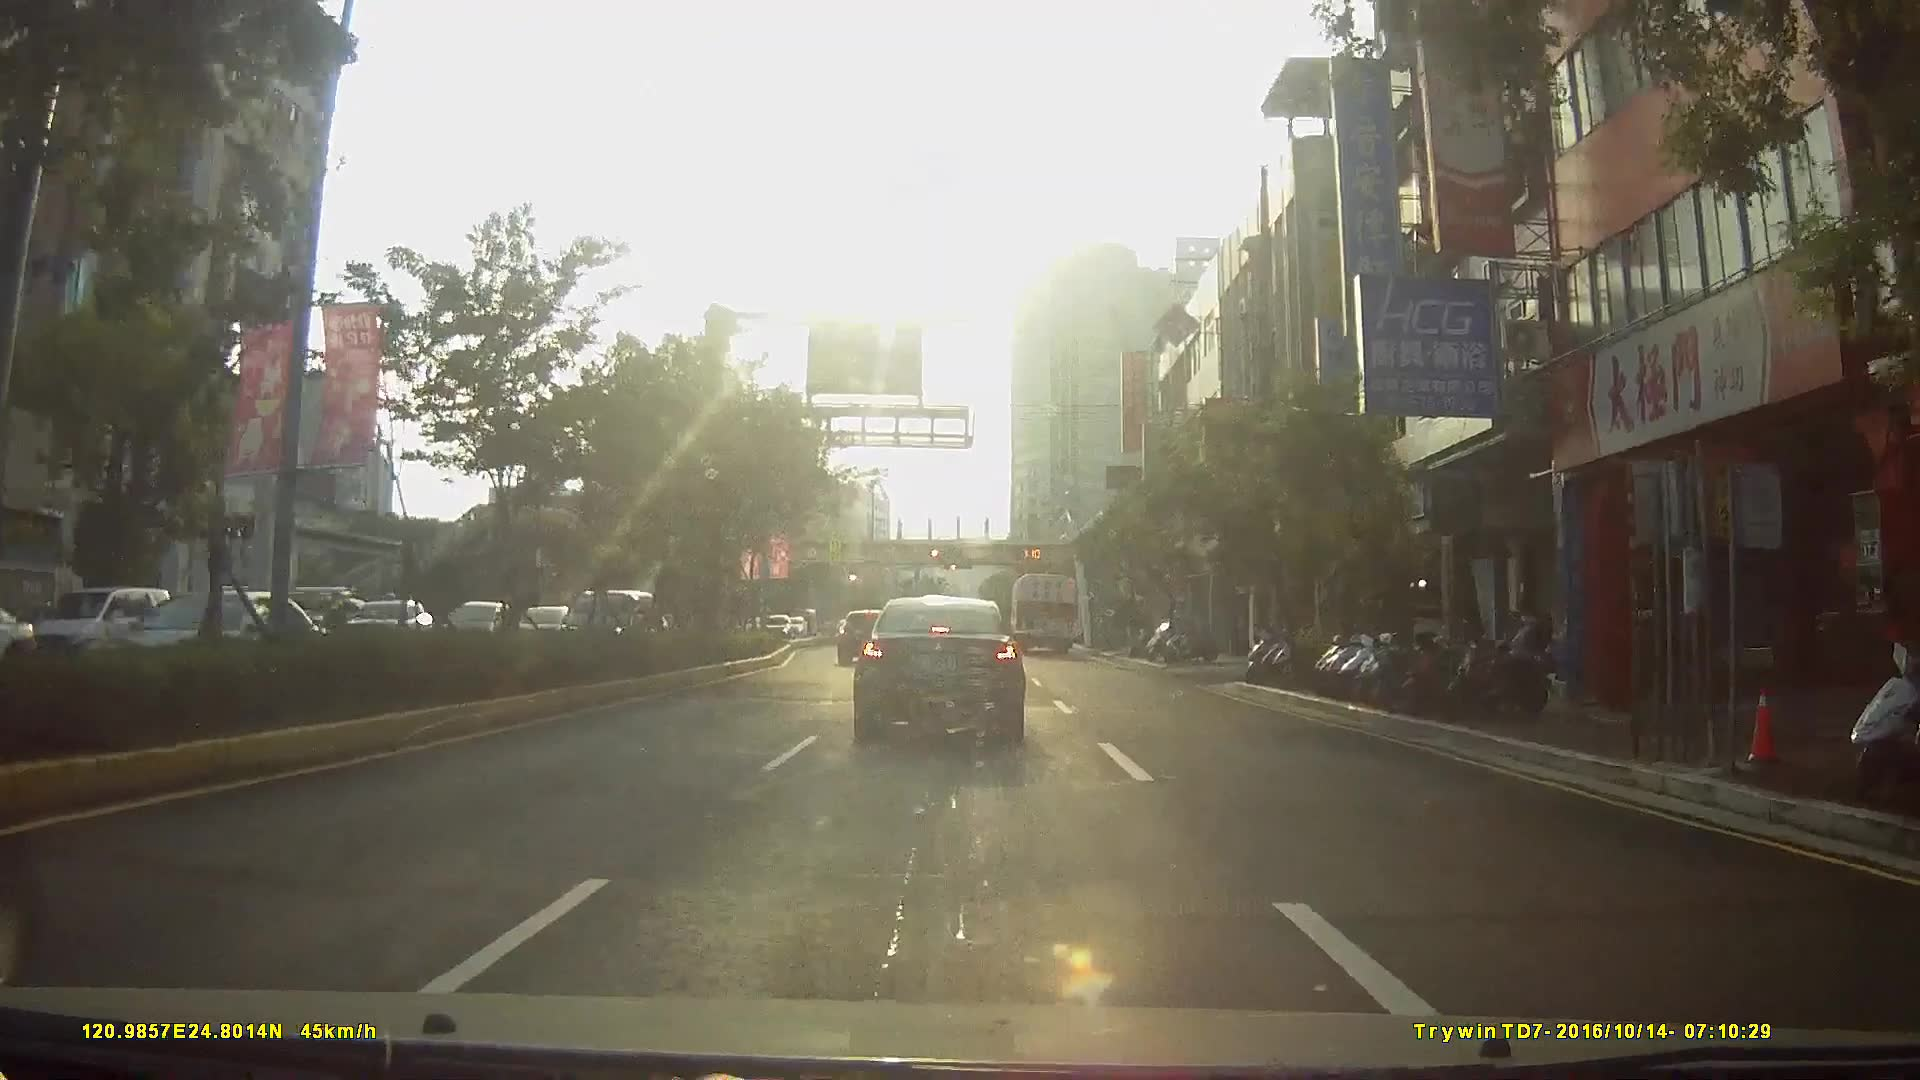vehicle: (851, 589, 1026, 744), (84, 588, 338, 694), (28, 585, 165, 662), (175, 591, 284, 657), (564, 589, 666, 653), (1006, 572, 1080, 657), (833, 607, 891, 662), (760, 611, 793, 638)
